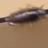cockroach: (5, 7, 46, 25)
